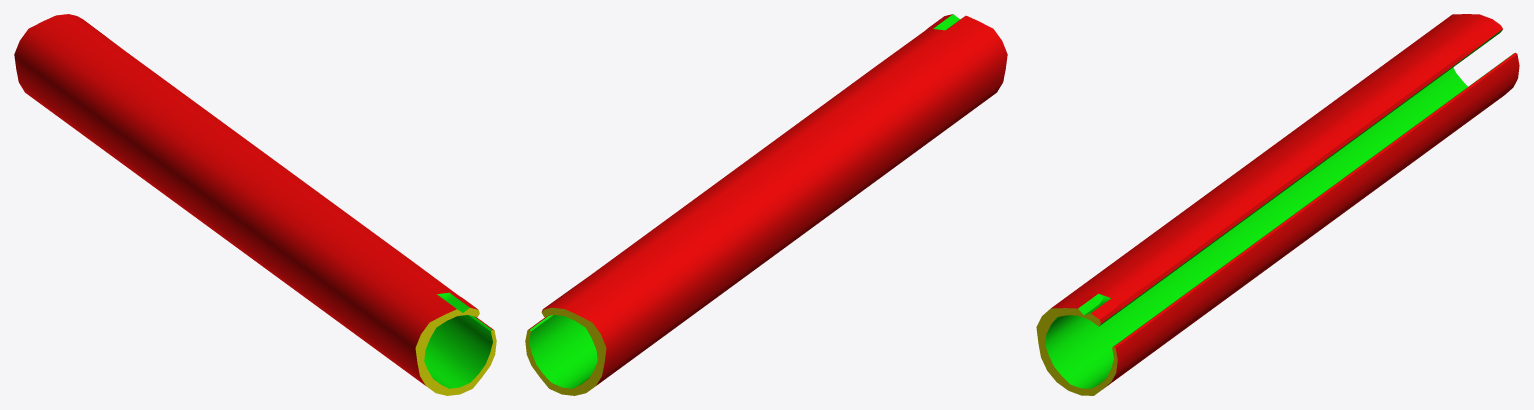
The model's file is Trunk_high.fbx.
The picture shows the model from 3 angles, left to right: view 1: azimuth 30°, elevation 25°; view 2: azimuth 150°, elevation 25°; view 3: azimuth 330°, elevation 25°; orthographic projection.
Visible parts, largest first — view 1: MainTrunk_high; view 2: MainTrunk_high; view 3: MainTrunk_high.
Part boxes in pixels (<box>): MainTrunk_high: <box>14,14,496,395</box>; MainTrunk_high: <box>525,14,1007,395</box>; MainTrunk_high: <box>1036,14,1519,395</box>.
Size of the model in its own units: 1.84 by 1.86 by 15.71.
